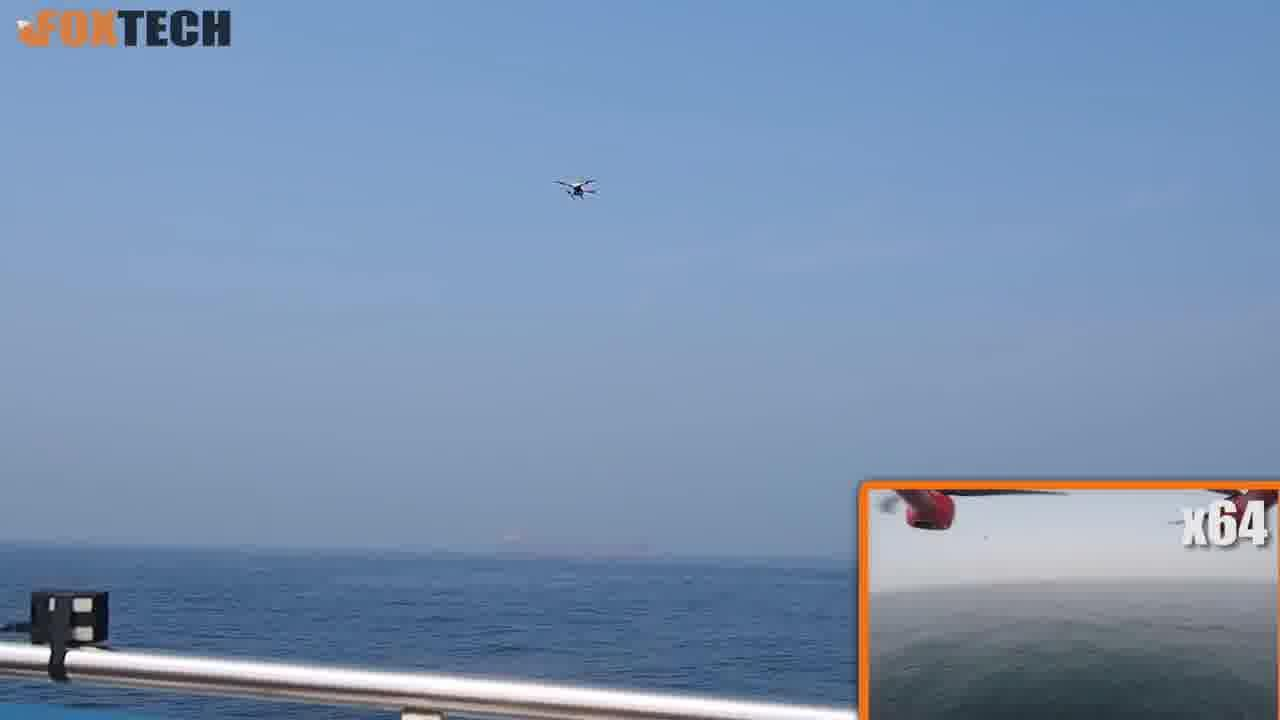drone: (545, 172, 609, 206)
